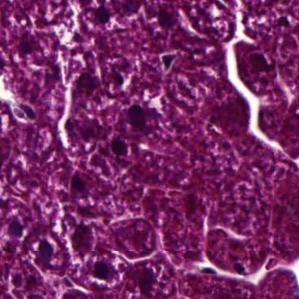inflammation: (64, 219, 102, 264), (106, 67, 137, 98)
